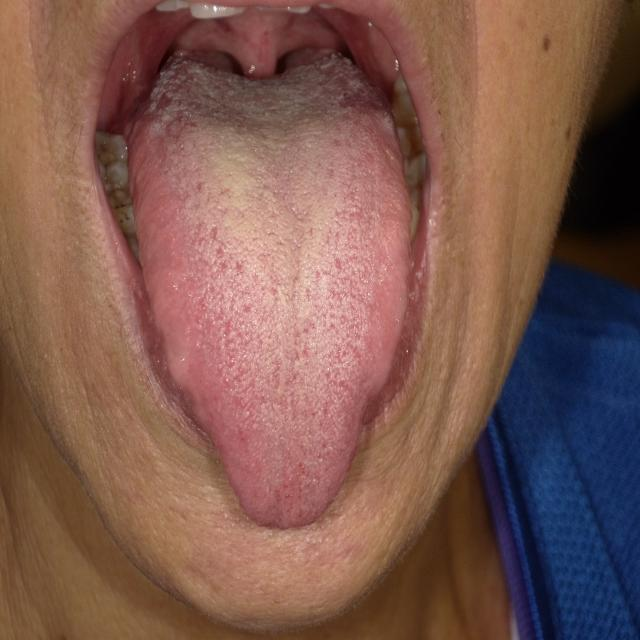baitaishe: (127, 49, 412, 530)
shenquao: (199, 50, 318, 84)
